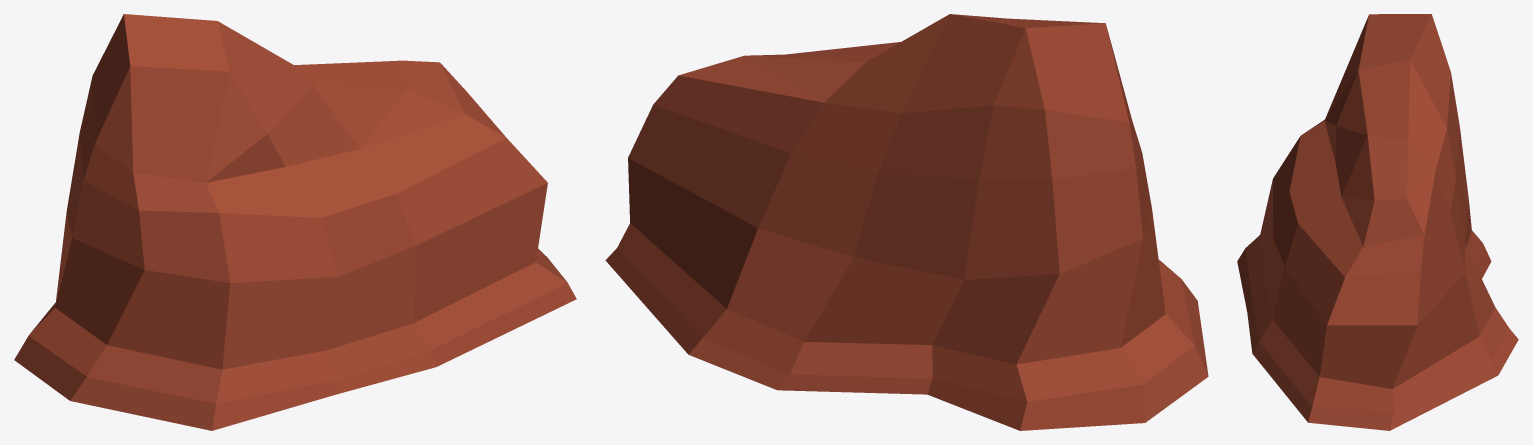
Rendered from SandWall002.fbx.
3 views of the same model, side by side, from view 1: azimuth 30°, elevation 25°; view 2: azimuth 150°, elevation 25°; view 3: azimuth 270°, elevation 25° (orthographic). The views are drawn at different scales.
Parts seen in each view (by area): view 1: Cylinder003; view 2: Cylinder003; view 3: Cylinder003.
Part boxes in pixels (box(x1,y1,x2,y2)): Cylinder003: box(14, 14, 576, 430); Cylinder003: box(605, 14, 1208, 430); Cylinder003: box(1237, 14, 1518, 430).
Bounding box in the file's own units: 1217 × 739 × 725.
